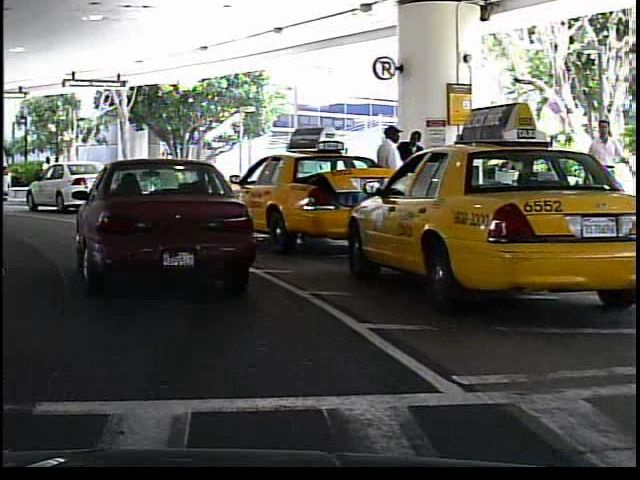person: (576, 114, 627, 238), (370, 123, 406, 237), (396, 123, 428, 228), (34, 151, 58, 195)
